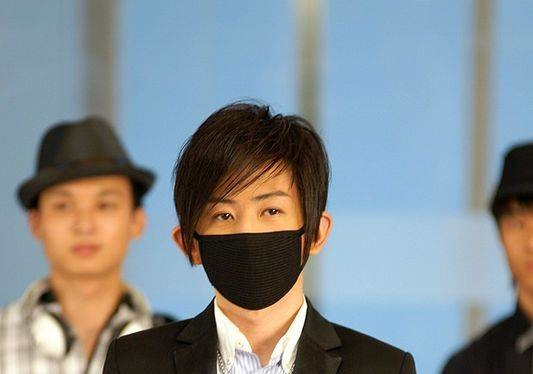face: (201, 159, 305, 310), (43, 175, 132, 273), (498, 214, 533, 295)
